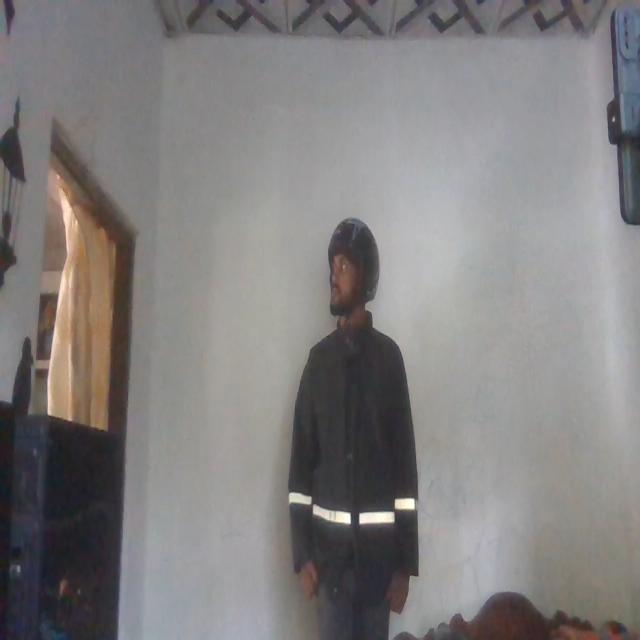Helmet_Wearer: (313, 228, 391, 322)
Jacket_Wearer: (285, 308, 417, 599)
Person: (285, 217, 428, 640)
